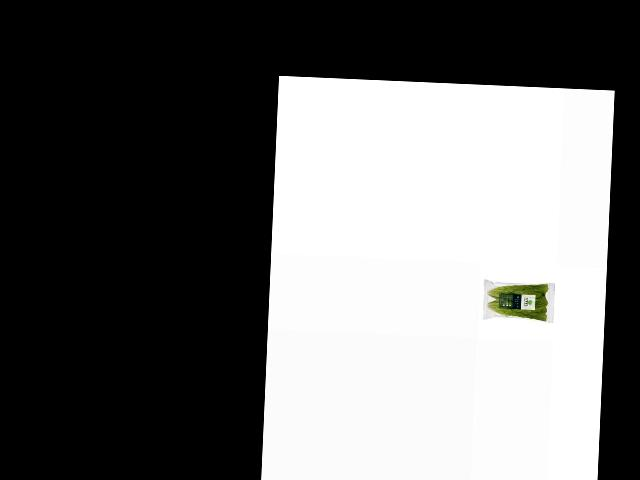lettuce: (485, 276, 550, 321)
